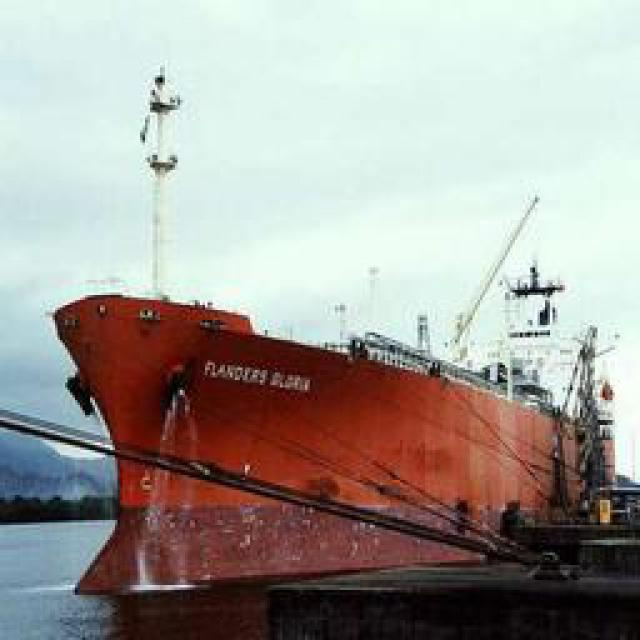Ship: (39, 271, 634, 601)
